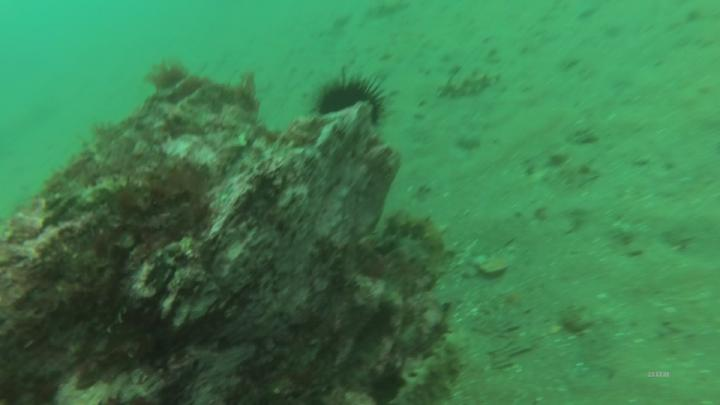echinus: (313, 68, 396, 132)
holothurian: (394, 332, 468, 405), (383, 204, 450, 281), (434, 67, 502, 101)
